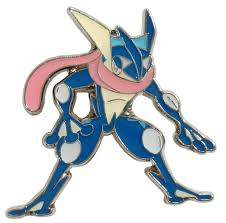greninja: (7, 6, 216, 214)
